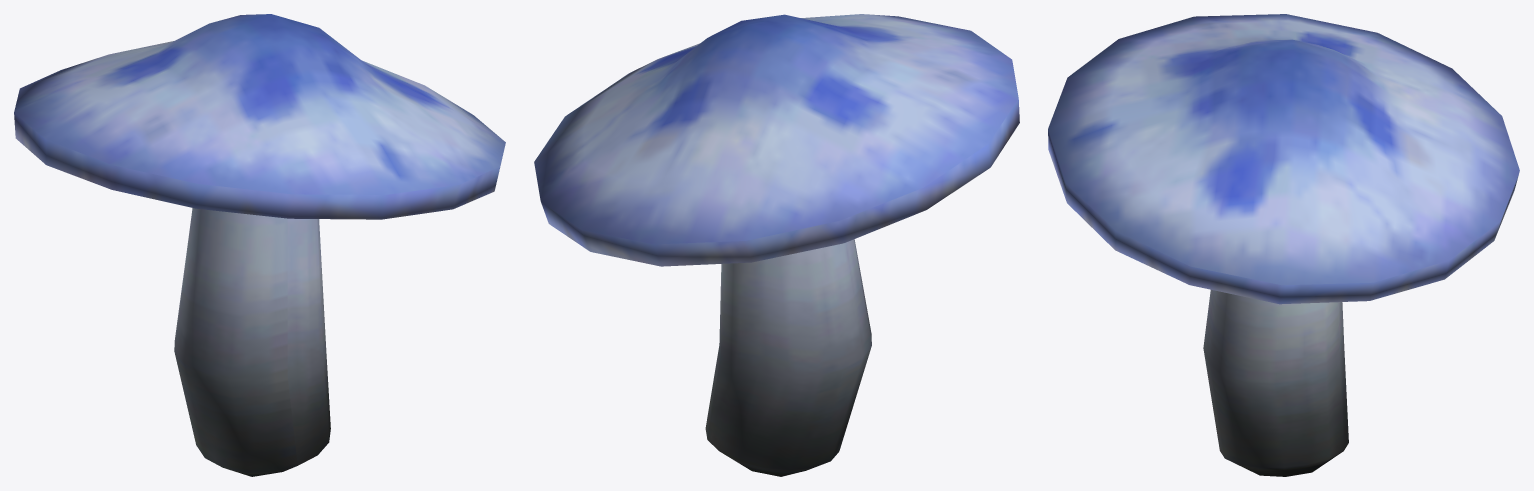
The model's file is INST_TROLLHOLE_SHROOMA3.fbx.
The picture shows the model from 3 angles, left to right: view 1: azimuth 30°, elevation 25°; view 2: azimuth 150°, elevation 25°; view 3: azimuth 270°, elevation 25°; orthographic projection. The views are drawn at different scales.
Visible parts, largest first — view 1: INST_TROLLHOLE_SHROOMA3; view 2: INST_TROLLHOLE_SHROOMA3; view 3: INST_TROLLHOLE_SHROOMA3.
Boxes of the visible parts, box(x1,y1,x2,y2) form: INST_TROLLHOLE_SHROOMA3: box(14, 14, 505, 476); INST_TROLLHOLE_SHROOMA3: box(534, 14, 1019, 476); INST_TROLLHOLE_SHROOMA3: box(1048, 14, 1519, 476).
Bounding box in the file's own units: 18728 × 18488 × 18852.
Materials: 1 (1 with a texture image).
